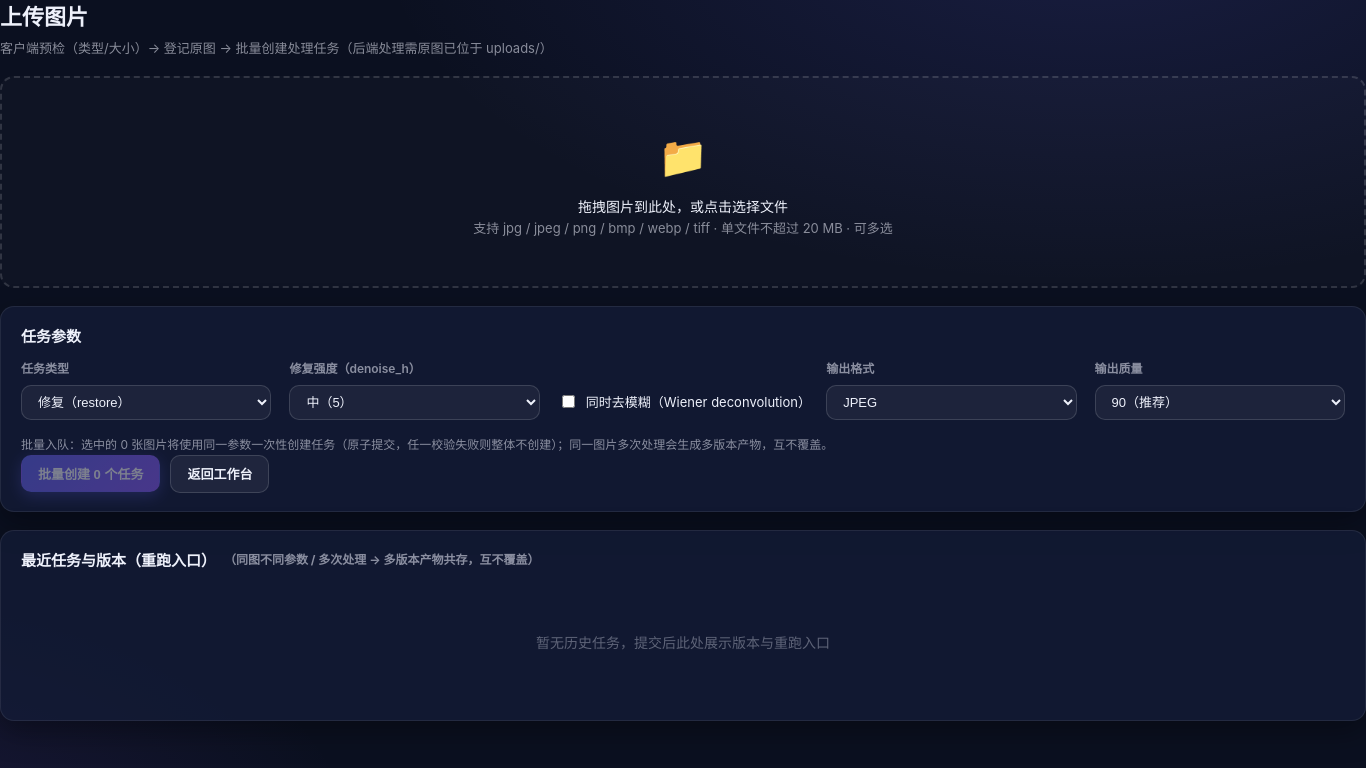
Test: UploadView D7 › switches param panel to upscale ×2/×4 and colorize hint
Step 1. Select "超分（upscale）" in the dropdown with test id "task-type" → (146, 402), box [21, 385, 271, 420]
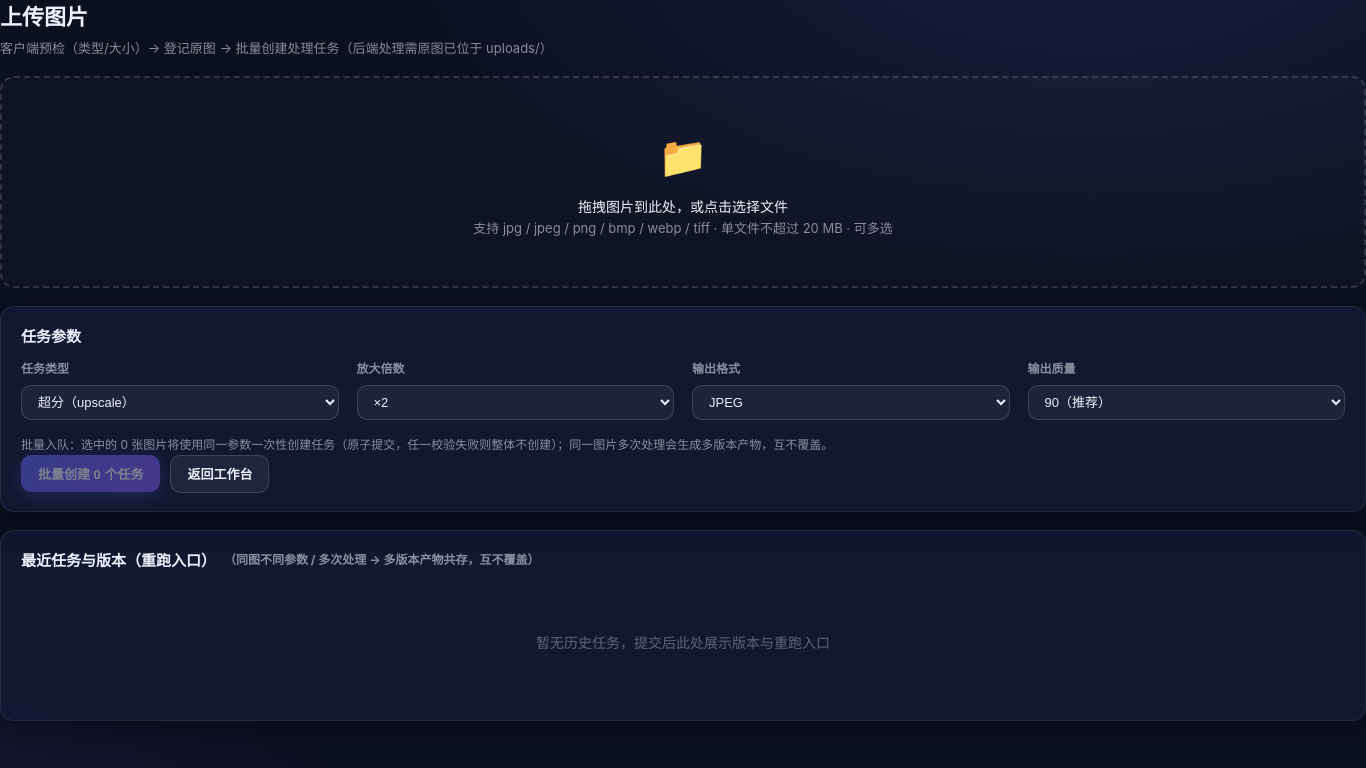
Result: the dropdown with test id "scale" is shown at [356, 385, 674, 420]
Result: the label with test id "denoise-h" is gone
Step 2. Select "上色（colorize）" in the dropdown with test id "task-type" → (180, 402), box [21, 385, 338, 420]
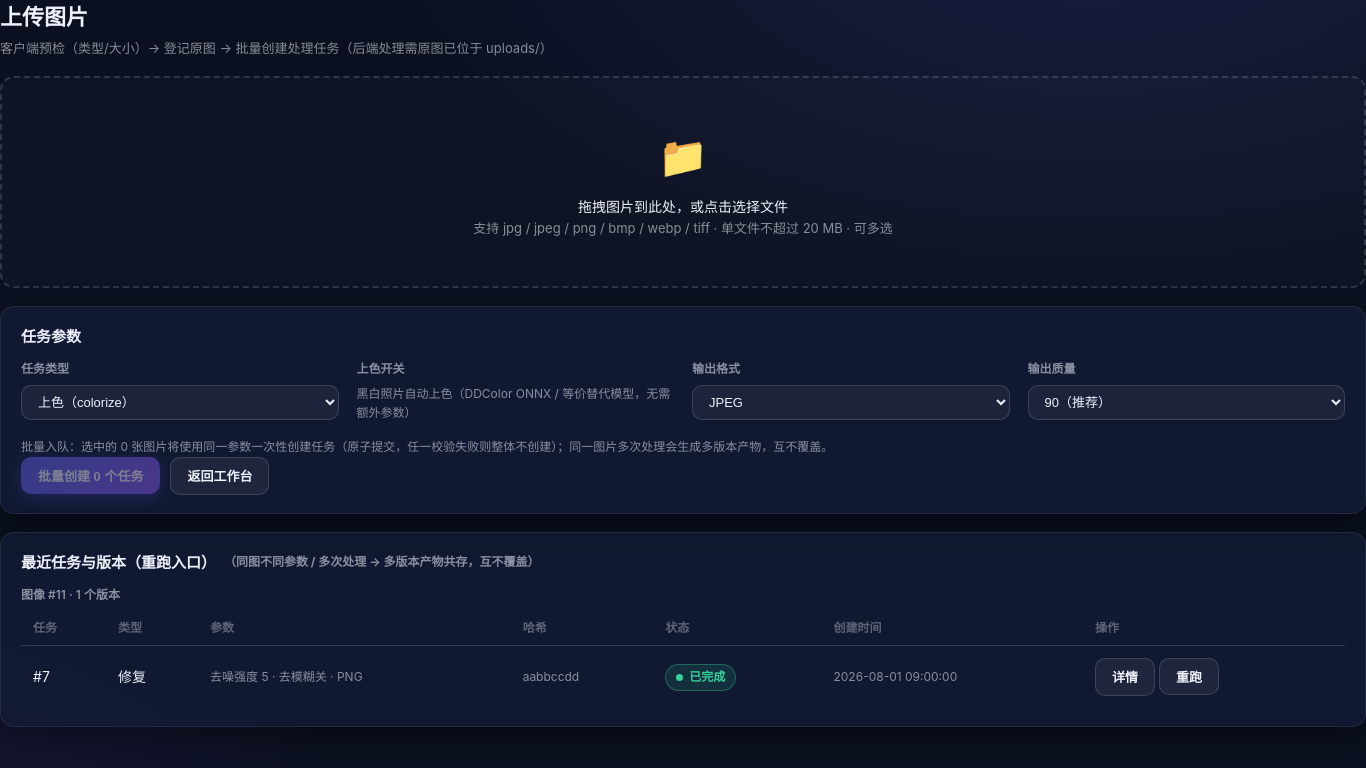
Result: the text "黑白照片自动上色（DDColor ONNX / 等价替代模型，无需额外参数）" is shown at [356, 385, 674, 422]
